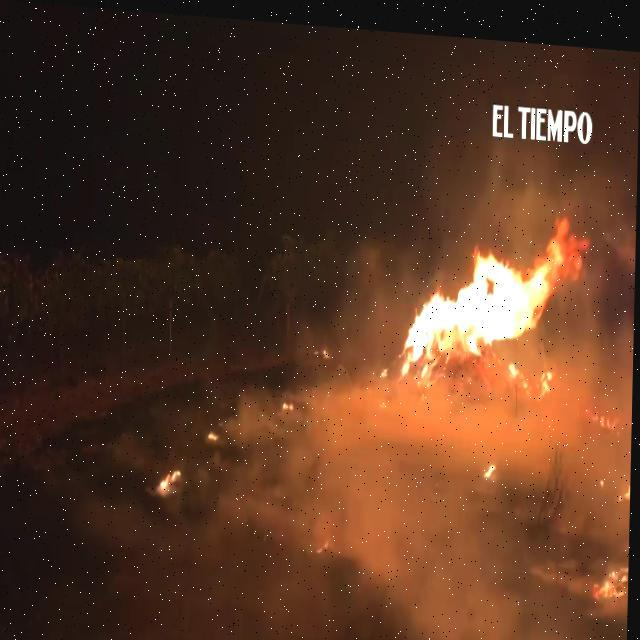Fire: (379, 205, 592, 388), (594, 546, 630, 600), (161, 462, 183, 492), (592, 398, 619, 420), (486, 452, 498, 472), (206, 427, 221, 438), (284, 391, 294, 406), (324, 340, 331, 354)
